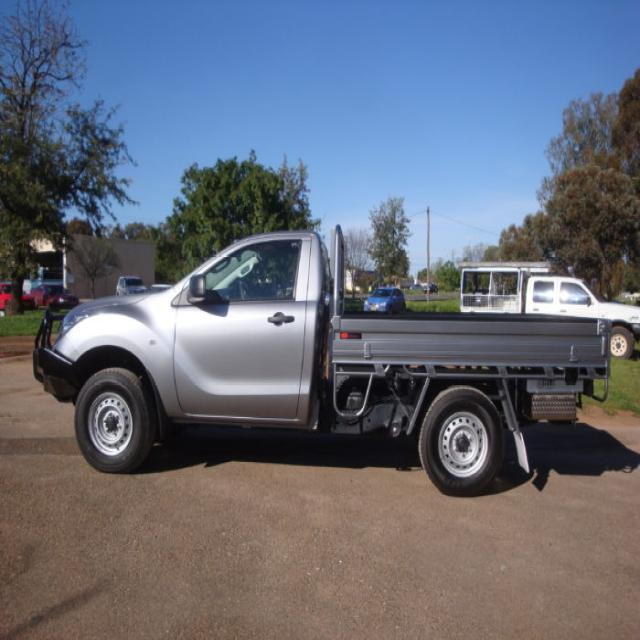light_vehicle: (30, 221, 616, 506)
